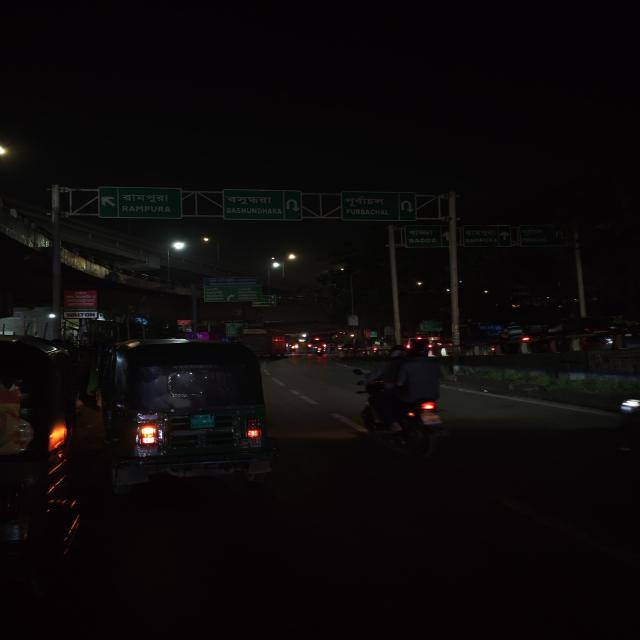bus: (247, 328, 290, 354)
cng: (92, 340, 277, 494)
motorcycle: (348, 341, 461, 460)
